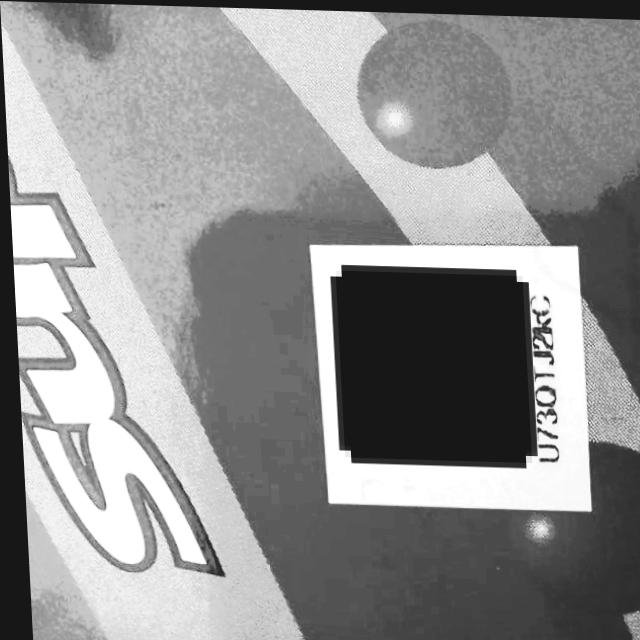qr_code: (333, 267, 527, 459)
